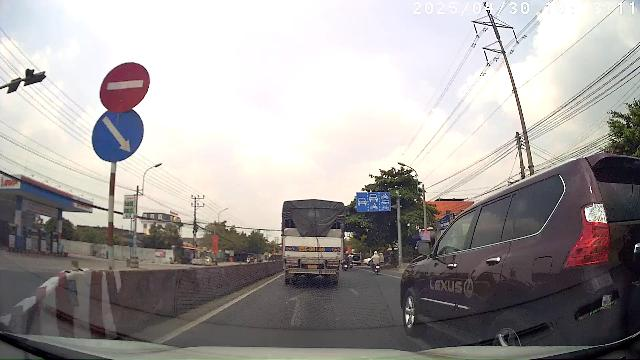102-cam-di-nguoc-chieu: (97, 60, 151, 112)
302a-huong-phai-di-vong-chuong-ngai-vat-1: (90, 110, 145, 161)
